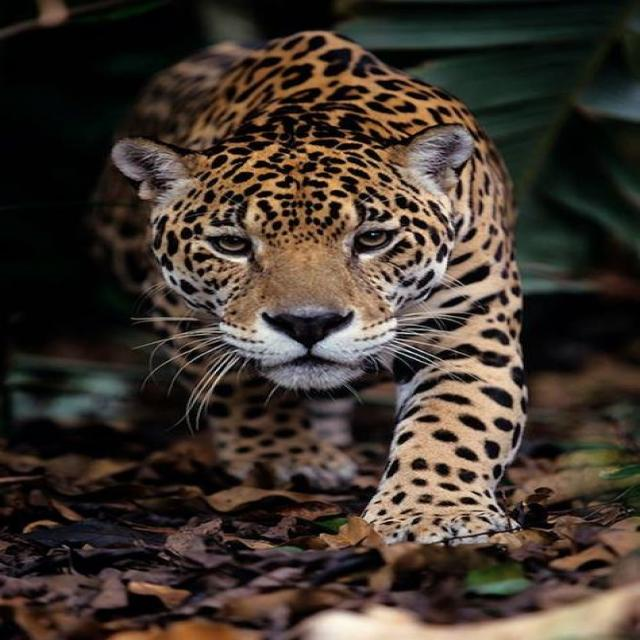Jaguar: (96, 27, 532, 553)
